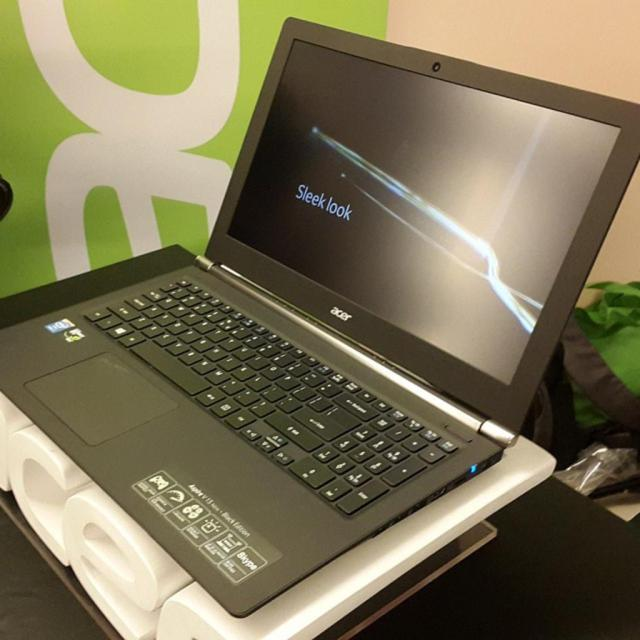laptop: (19, 22, 602, 616)
